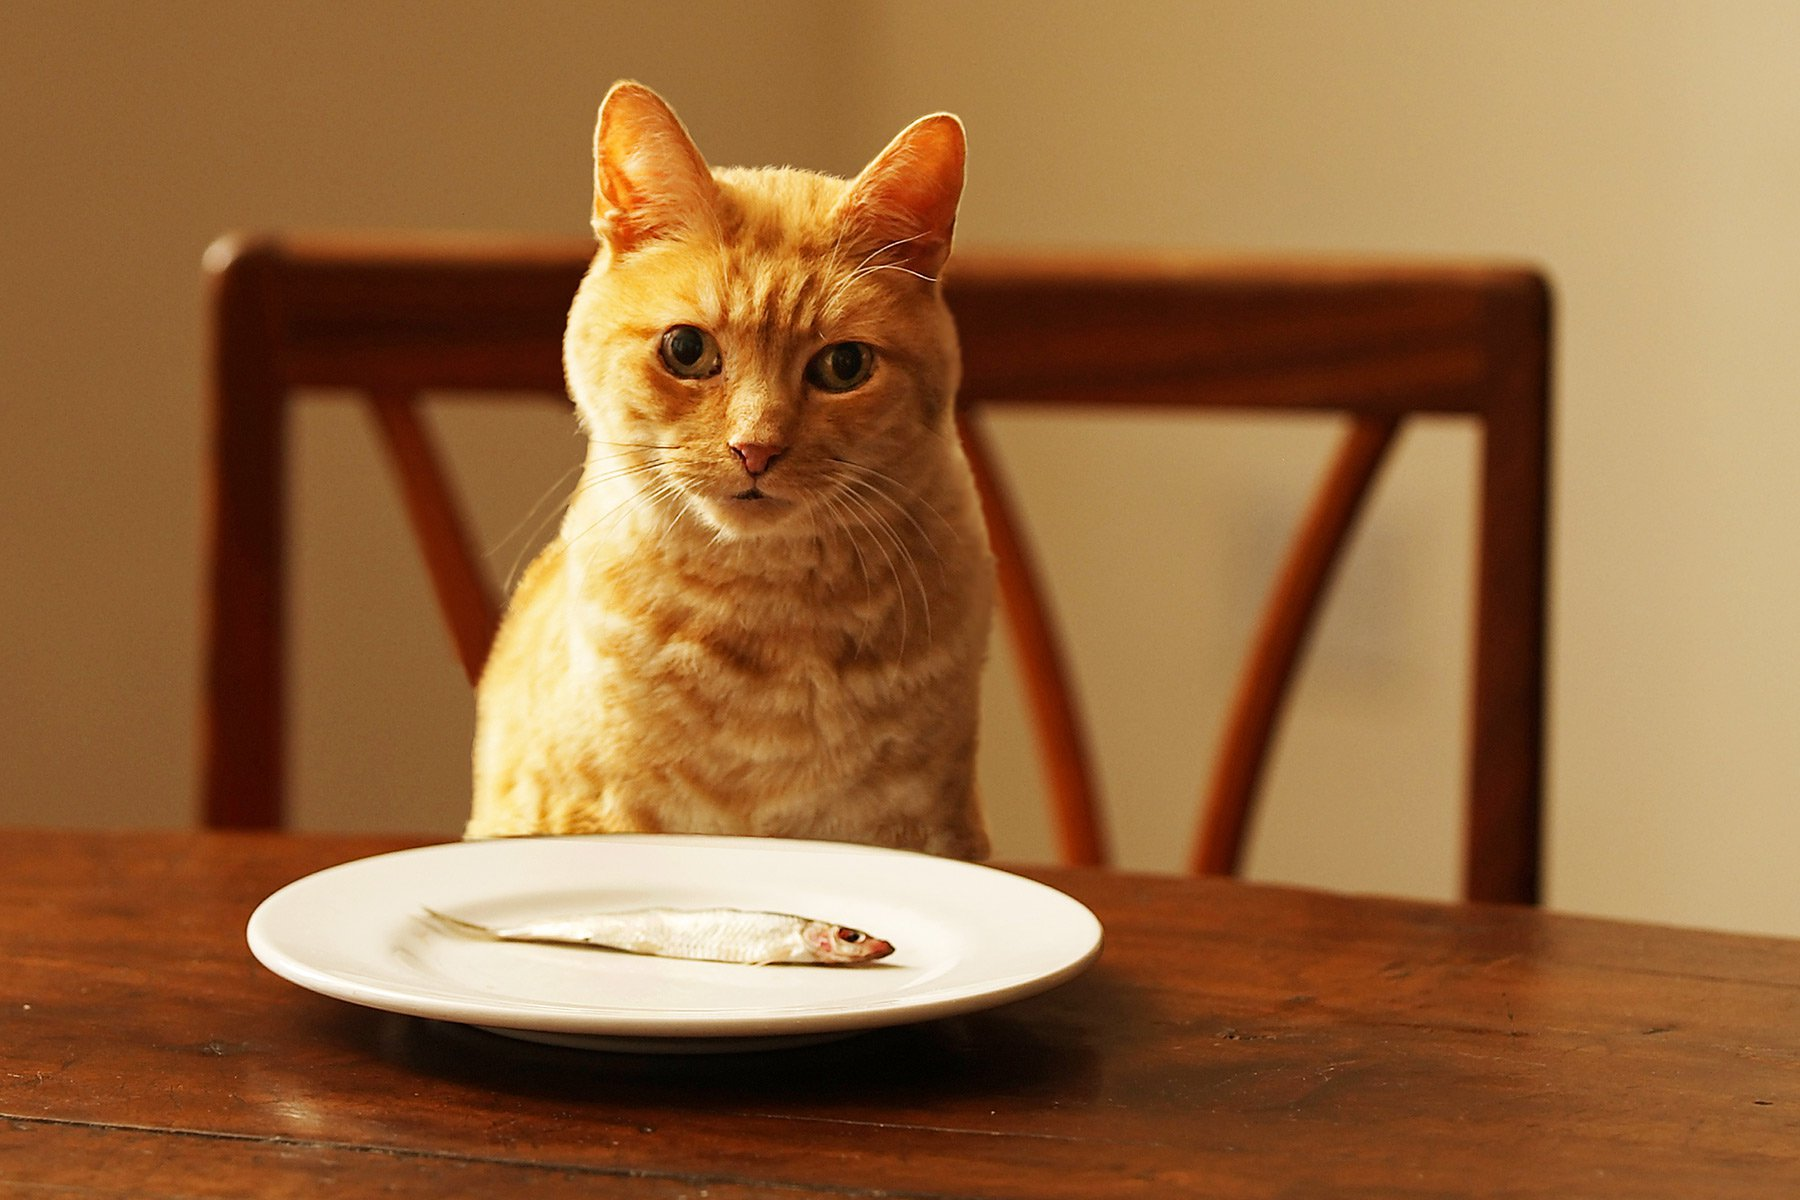cat: (441, 62, 1015, 891)
